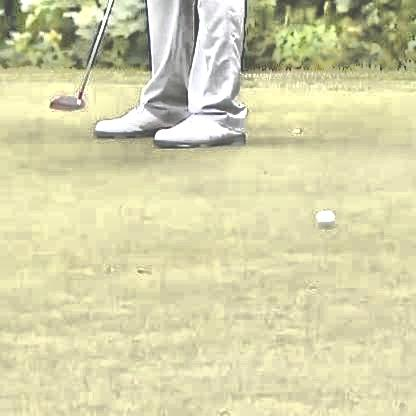golfball: (314, 208, 333, 226)
